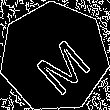M_NW: (21, 23, 88, 91)
